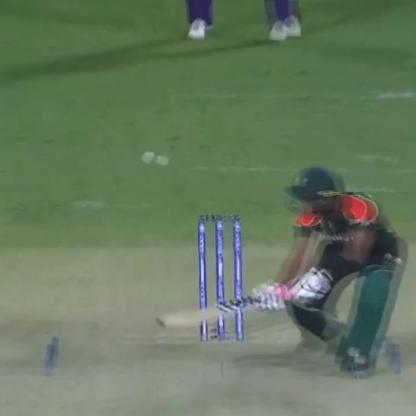ball: (134, 148, 160, 162), (155, 156, 176, 171)
bat: (142, 290, 304, 324)
pitch: (5, 302, 414, 415)
